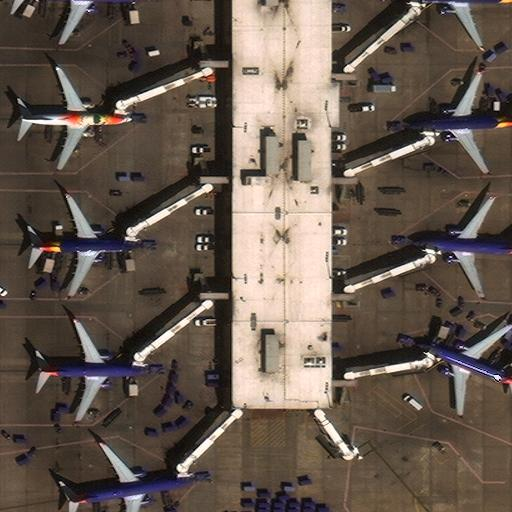Medium Civil Transport: (19, 67, 132, 169), (39, 319, 150, 420), (32, 194, 141, 293), (411, 72, 512, 173), (413, 196, 512, 298), (68, 442, 195, 512), (416, 323, 512, 414), (405, 0, 512, 49), (23, 0, 141, 43)
